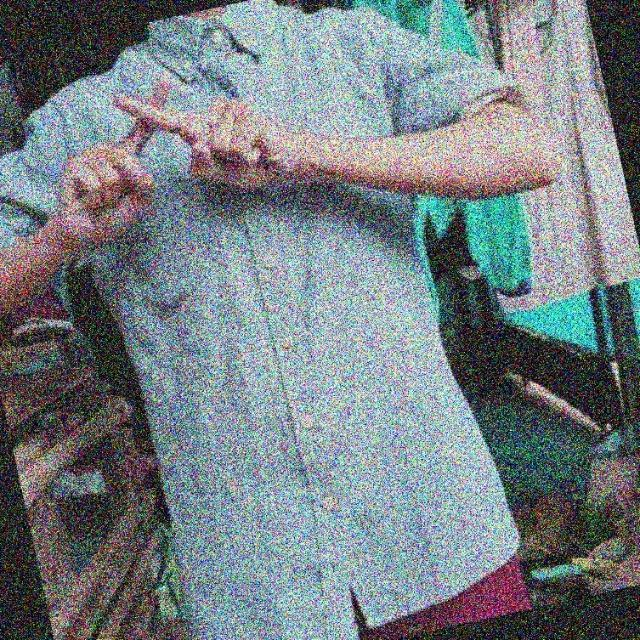X: (49, 52, 292, 274)
